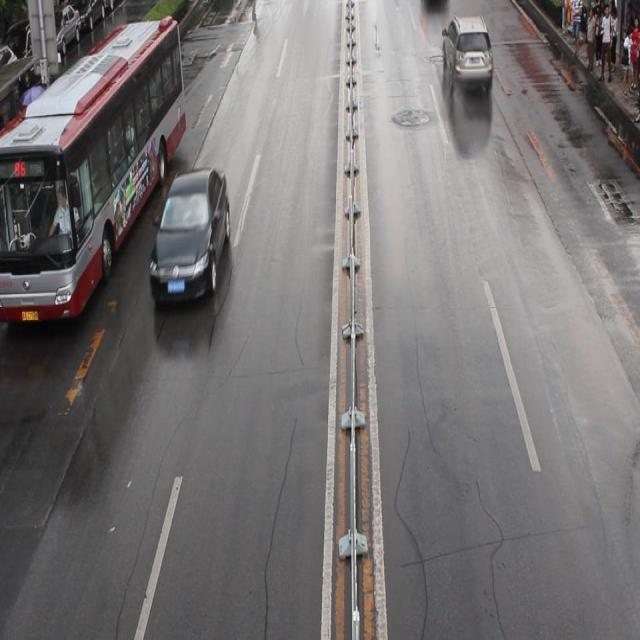car: (149, 167, 232, 305), (440, 15, 494, 90)
van: (0, 17, 186, 324)
